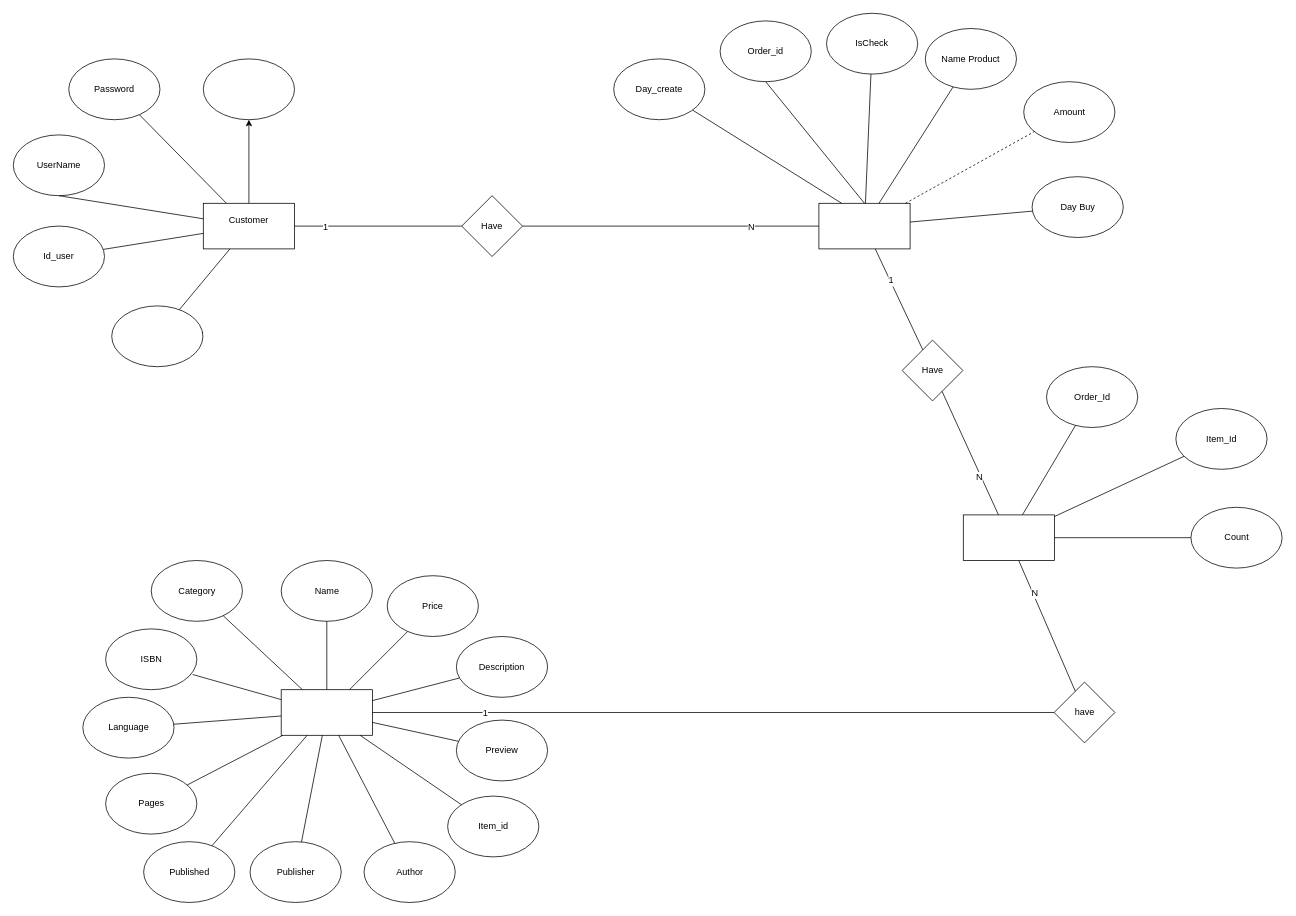
Image size: 1296x916. Some labels were removed from this diagram. Here are the shapes that lost their labels. From the top down, the centre of each, then its label:
the point at 248,89: Email
the point at 864,226: Orders
the point at 157,336: UserLevel
the point at 1008,537: OrderDetail
the point at 326,712: Items
